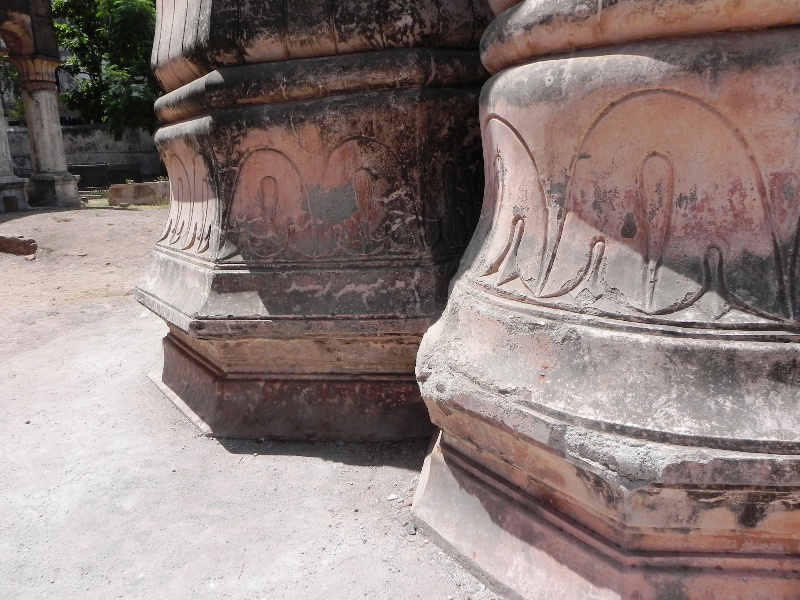Spalling: (299, 176, 367, 227)
